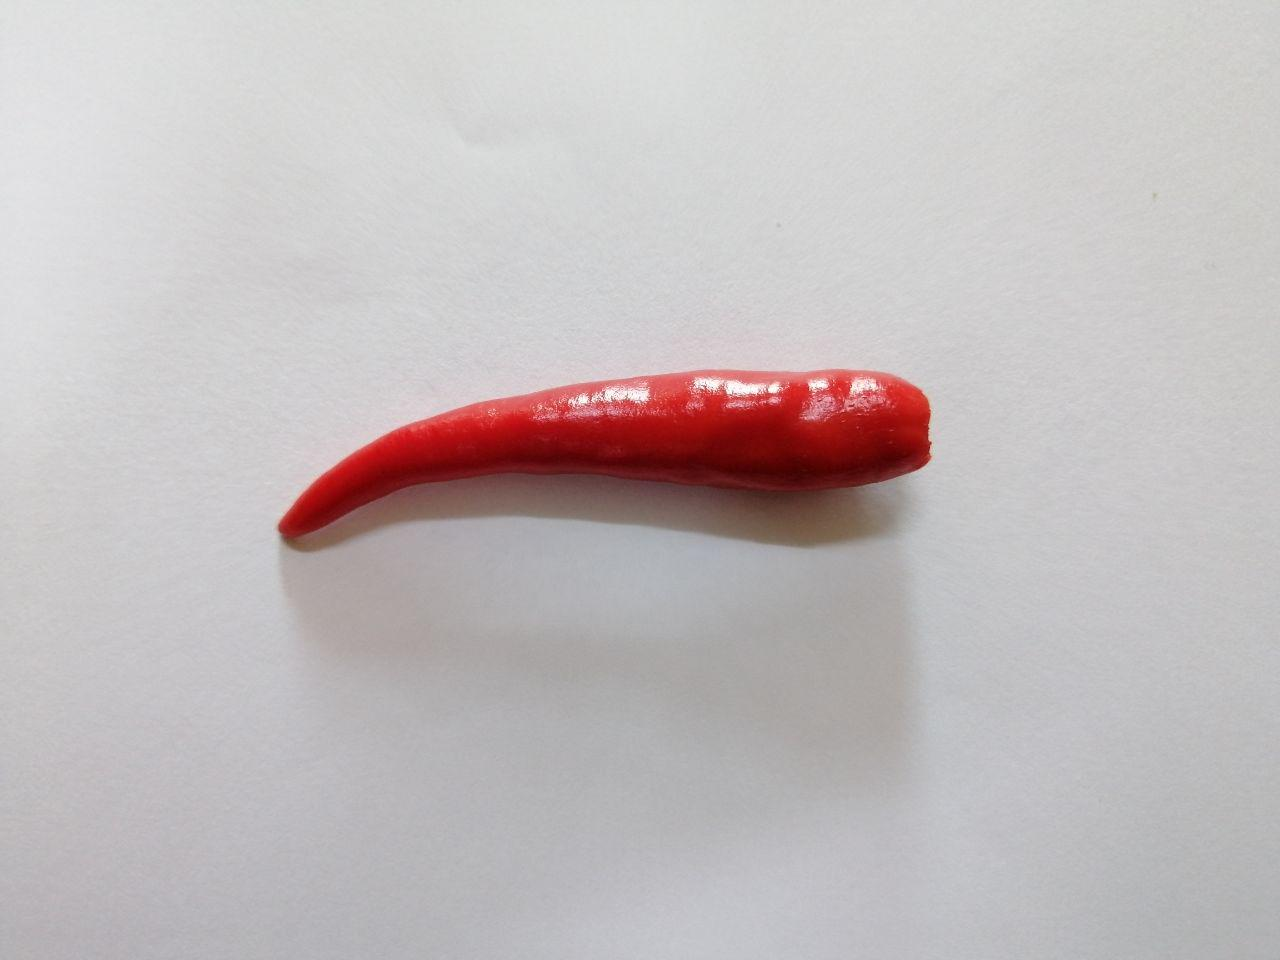lada merah: (268, 353, 949, 559)
